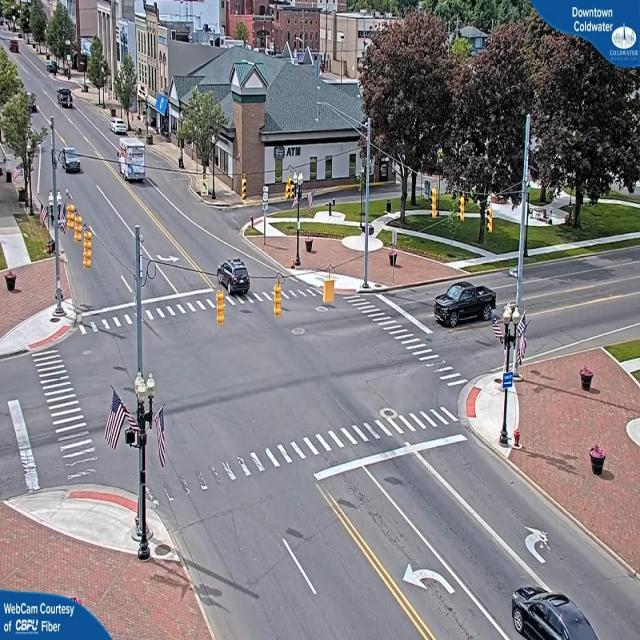car: (434, 280, 496, 327), (217, 259, 252, 293), (61, 150, 81, 174), (112, 118, 130, 136)
truck: (119, 140, 148, 184)
